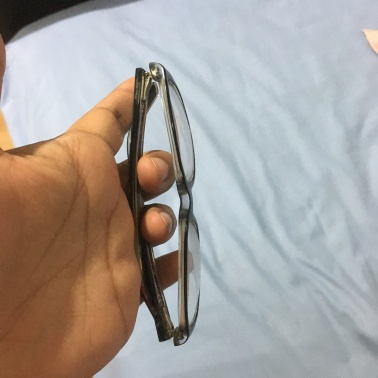glasses: (102, 61, 211, 346)
